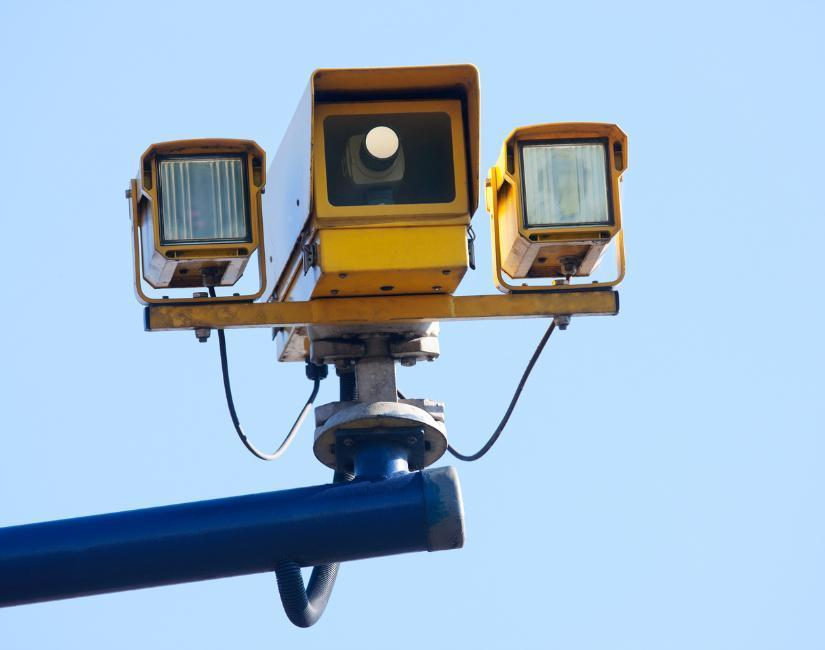Speed-Camera: (105, 41, 649, 364)
